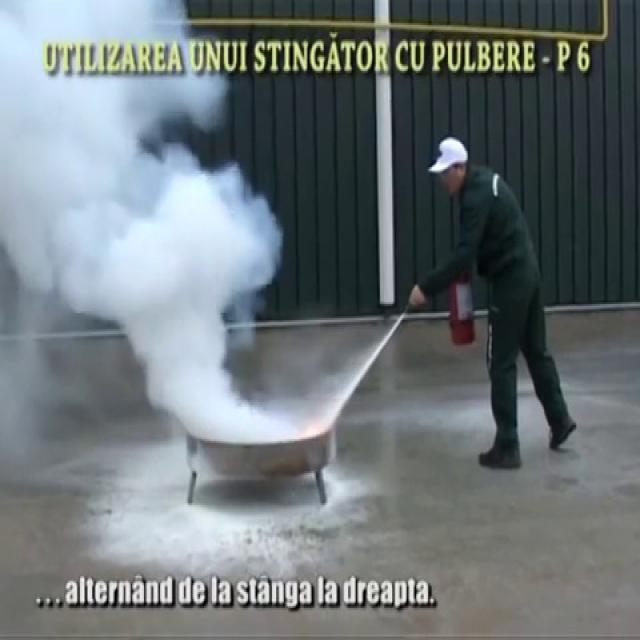Smoke: (0, 0, 288, 446)
